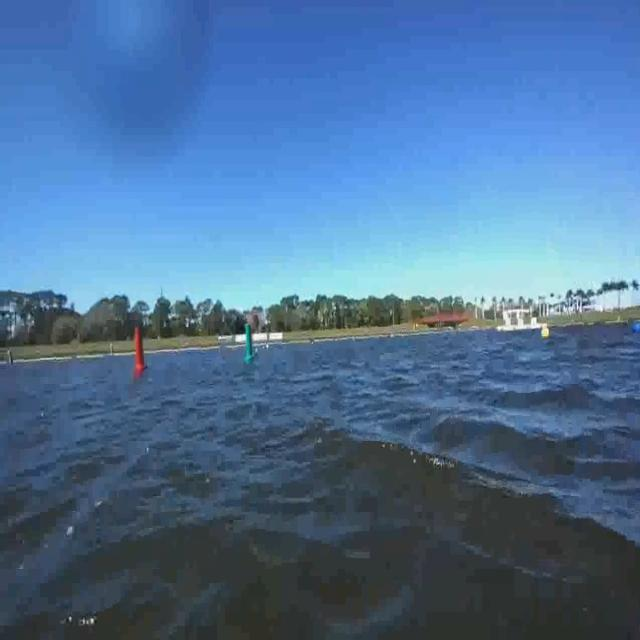green-column-buoy: (238, 322, 260, 369)
red-column-buoy: (130, 326, 148, 374)
